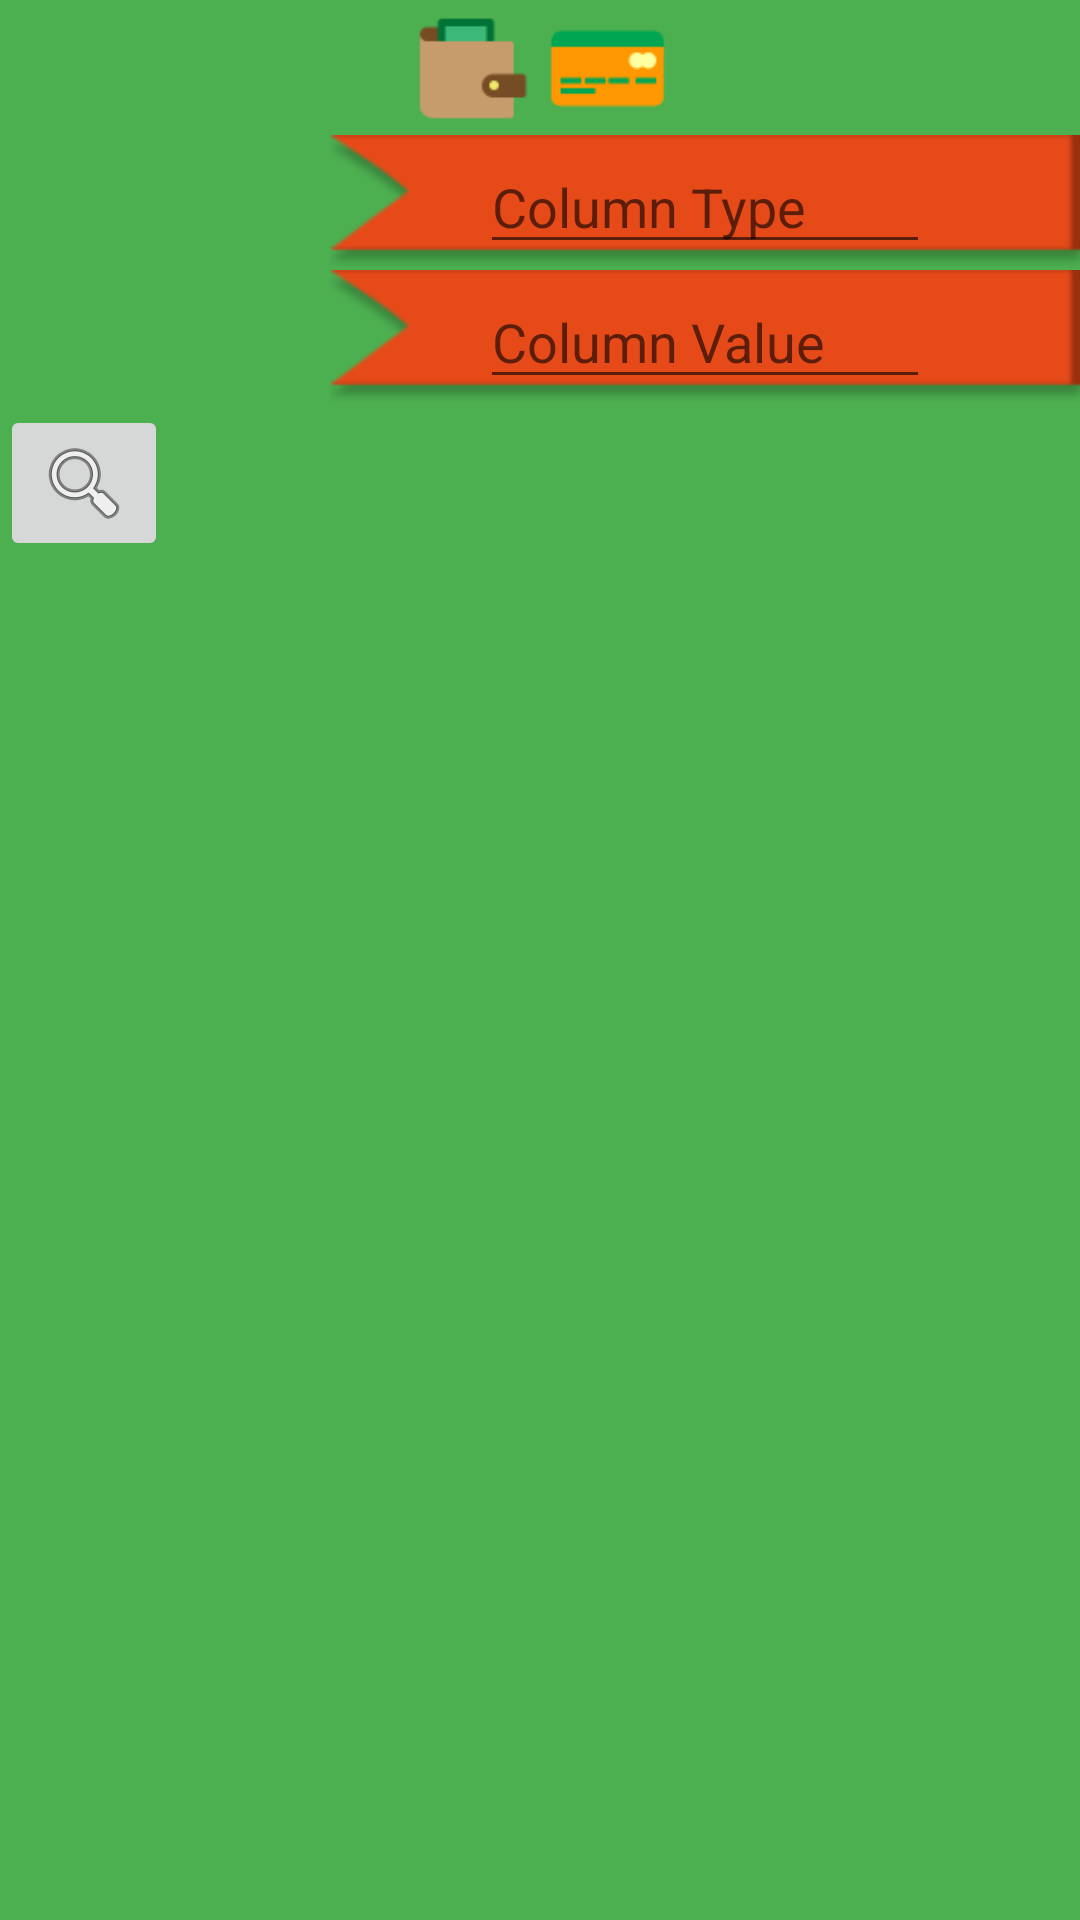

Icons on this 1080px×1920px Android screen, each with its box as BBox(x1, y1, x2, y2):
card: BBox(551, 30, 664, 107)
cash: BBox(419, 18, 527, 119)
search: BBox(12, 423, 156, 543)
